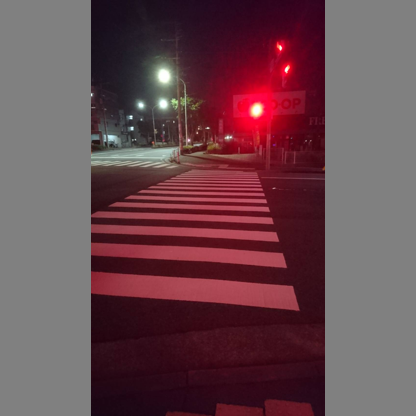crosswalk: (94, 171, 306, 317)
